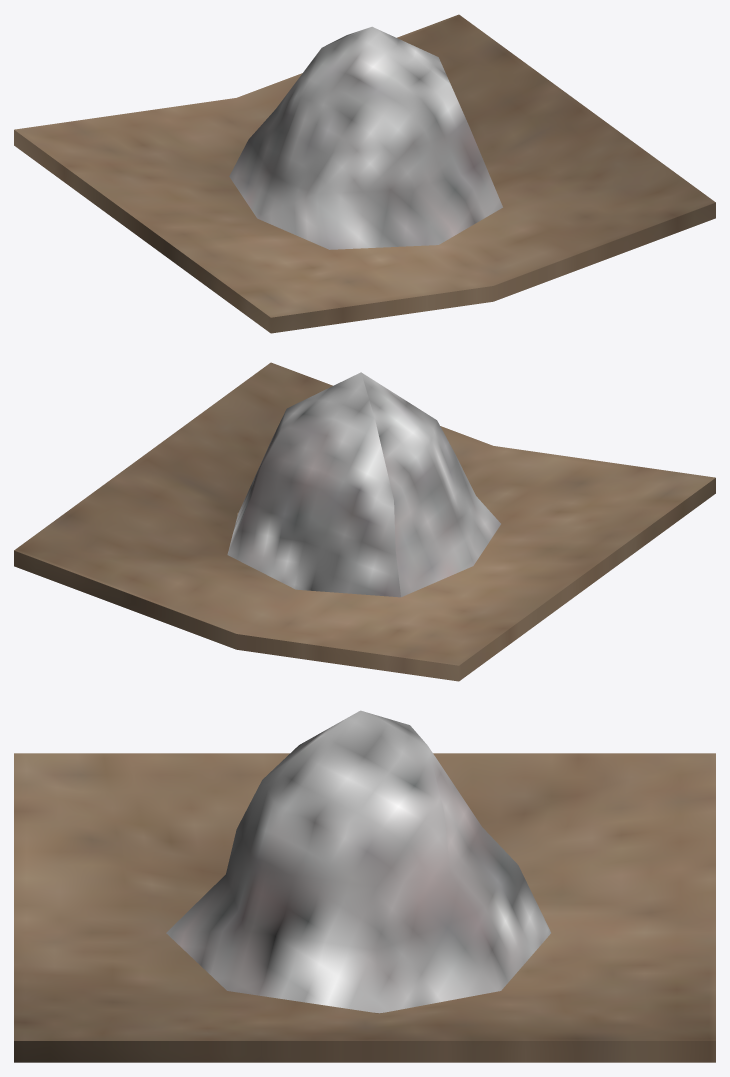
Rendered from Zinc_Crushed.fbx.
3 views of the same model, one above another, from view 1: azimuth 30°, elevation 25°; view 2: azimuth 150°, elevation 25°; view 3: azimuth 270°, elevation 25° (orthographic). The views are drawn at different scales.
Visible parts, largest first — view 1: Plane.001; view 2: Plane.001; view 3: Plane.001.
Part boxes in pixels (<box>): Plane.001: <box>14,14,715,333</box>; Plane.001: <box>14,362,715,681</box>; Plane.001: <box>14,710,715,1062</box>.
Bounding box in the file's own units: 0.0713 × 0.0277 × 0.0713.
